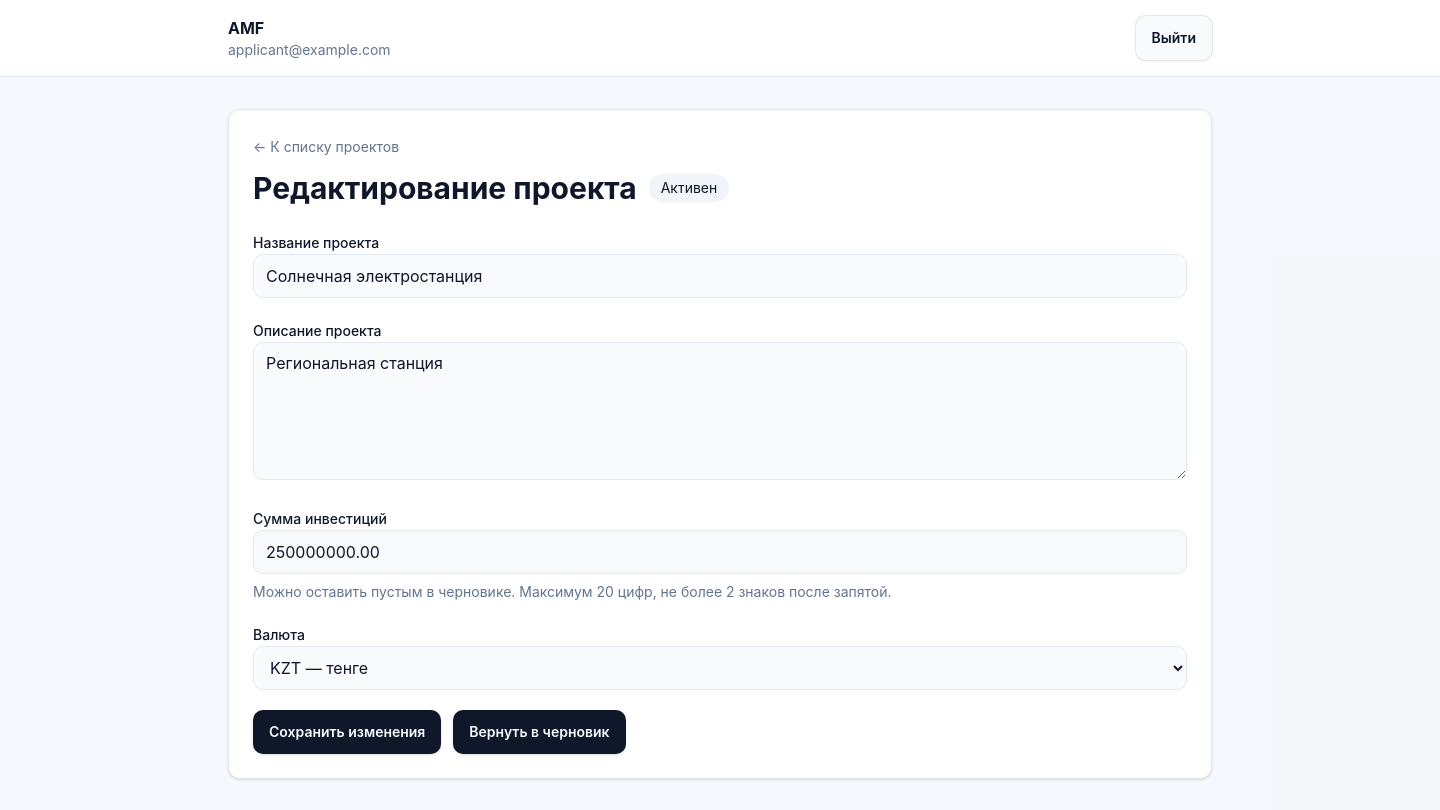
Test: project editor › returns an active project to draft and updates the saved status
The image size is (1440, 810).
Click the button "Вернуть в черновик" at coordinates (539, 732), box [453,710,626,754]
(page scrolled)
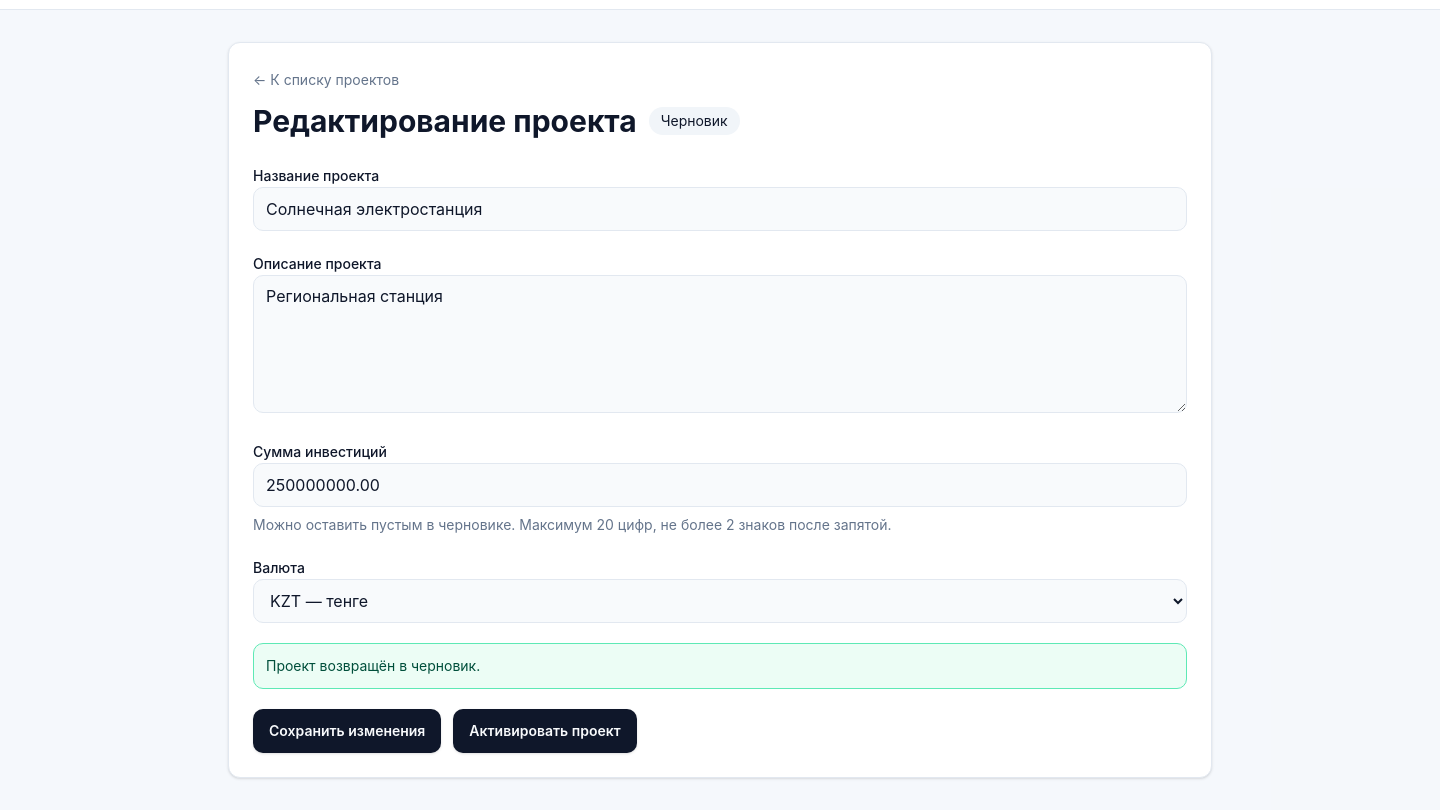
Expected: the button "Активировать проект" is enabled, [453,709,637,753]
Now the text "Проект возвращён в черновик." is shown, box [253,643,1187,689]
